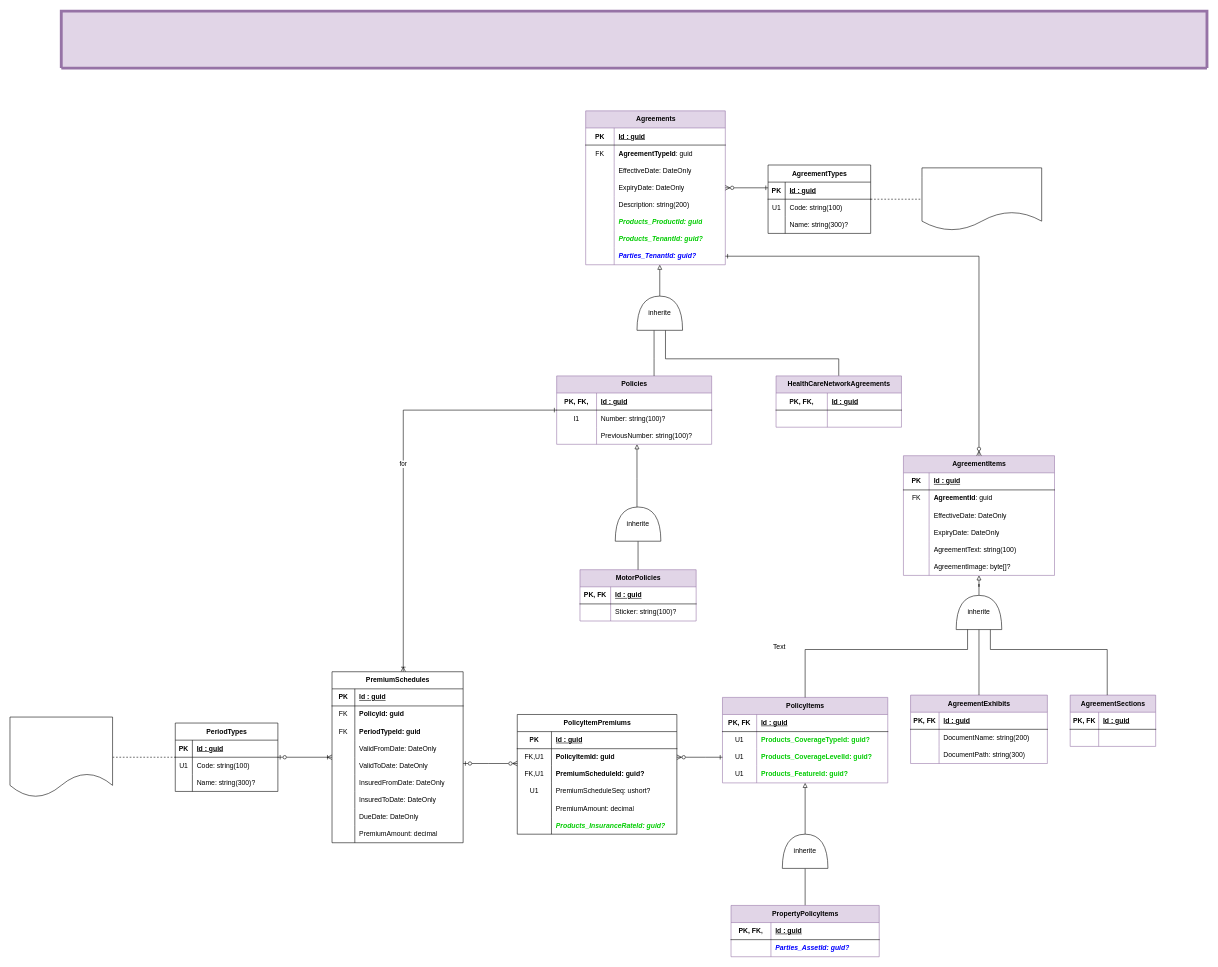
The diagram is 1218 pixels wide and 967 high, and some of its shapes have lost their labels. The centre of each missing label's shape, as x and y in pixels:
"<<schema>> policies" belongs at point 634,39.
"ANNUALLY SEMIANNUALLY QUARTERLY MONTHLY DAILY" belongs at point 61,756.
"MOTOR_POLICY HEALTH_CARE_NETWORK" belongs at point 981,199.
